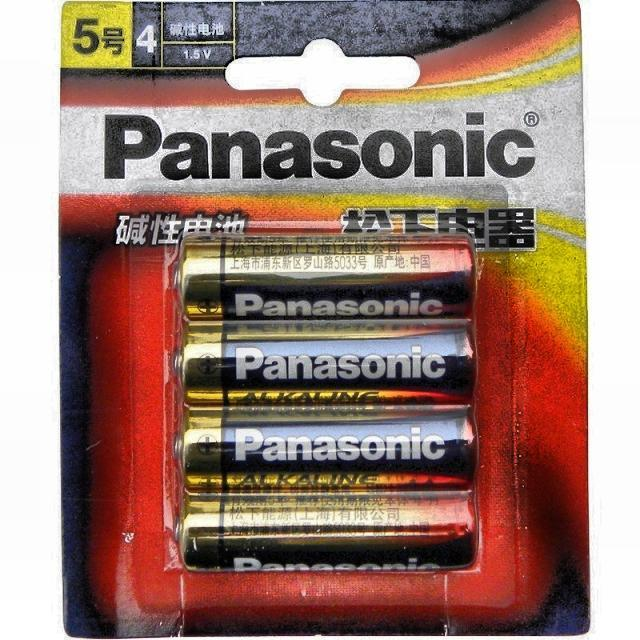battery: (181, 405, 475, 492), (179, 235, 475, 321), (181, 319, 475, 405), (181, 490, 476, 571)
